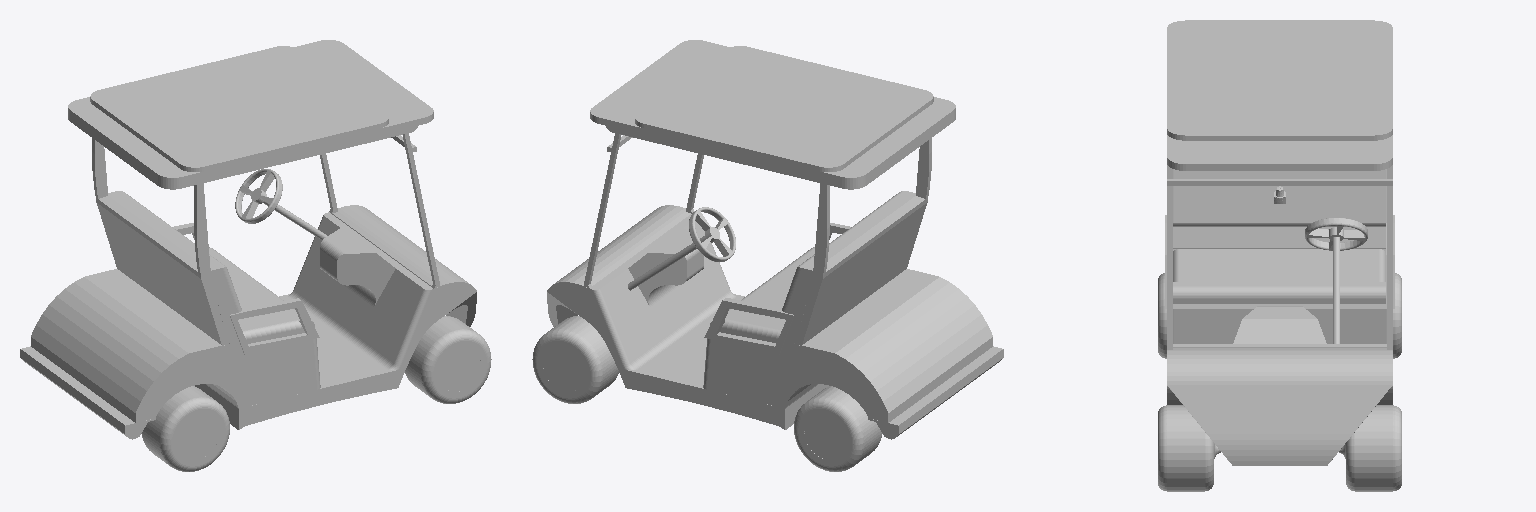
The robot description file, URDF, robot "cart_model":
<?xml version ="1.0" ?>

<robot name="cart_model" xmlns:xacro="http://www.ros.org/wiki/xacro">
    <link name="base_link">
        <visual>
            <origin rpy="1.570796 0 0" xyz="-1.2375 0.65 0"/>
            <geometry>
                <mesh filename="package://cart_sim/meshes/golfcar.dae"/>
            </geometry>
        </visual>
    </link>

    <link name="world">
        <origin rpy="0 0 0" xyz="0 0 0"/>
      </link>

        <joint name="world_to_base" type="fixed">
          <origin xyz="0 0 0"/>
          <parent link="world"/>
          <child link="base_link"/>
        </joint>

      <joint name="base_to_lms" type="fixed">
        <origin xyz="0 0 0"/>
        <parent link="base_link"/>
        <child link="lms_link"/>
      </joint>

    <link name="lms_link">
        <visual>
          <geometry>
            <mesh filename="package://cart_sim/meshes/LMS.dae"/>
          </geometry>
          <origin rpy="0 0 -1.570796" xyz="1 0.058815 0.57"/>
        </visual>
    </link>

      <joint name="base_to_tim" type="fixed">
        <origin xyz="0 0 0"/>
        <parent link="base_link"/>
        <child link="tim_link"/>
      </joint>

    <link name="tim_link">
          <visual>
            <geometry>
              <mesh filename="package://cart_sim/meshes/TIM.dae"/>
            </geometry>
            <origin rpy="1.570796 0.2094395 0" xyz="0.7 0 1.61"/>
          </visual>
      </link>

      <joint name="base_to_D455" type="fixed">
        <origin xyz="0 0 0"/>
        <parent link="base_link"/>
        <child link="D455_link"/>
      </joint>

    <link name="D455_link">
          <visual>
            <geometry>
              <mesh filename="package://cart_sim/meshes/D455.dae"/>
            </geometry>
            <origin rpy="1.3613565 0 -1.570796" xyz="0.72 0 1.71"/>
          </visual>
      </link>
</robot>

--- What the picture shows (computed from the rendered views, not written in the file) ---
3 views of the same robot in one strip: view 1: azimuth 30°, elevation 25°; view 2: azimuth 150°, elevation 25°; view 3: azimuth 270°, elevation 25° (orthographic).
Model cart_model with 5 links and 4 joints (4 fixed), rooted at world, posed every joint at zero.
Links seen in each view (by area): view 1: base_link; view 2: base_link; view 3: base_link.
Boxes of the visible links, x1,y1,x2,y2 form: base_link: (20, 40, 491, 471); base_link: (532, 40, 1003, 471); base_link: (1158, 20, 1401, 491).
Bounding box of the posed robot: 2.48 × 1.3 × 1.9 m (x, y, z).
Meshes: 4 distinct files referenced, 3 mesh visuals loaded (3 Collada DAE); not drawn: 1 (reference not matched to a file when rendering).
